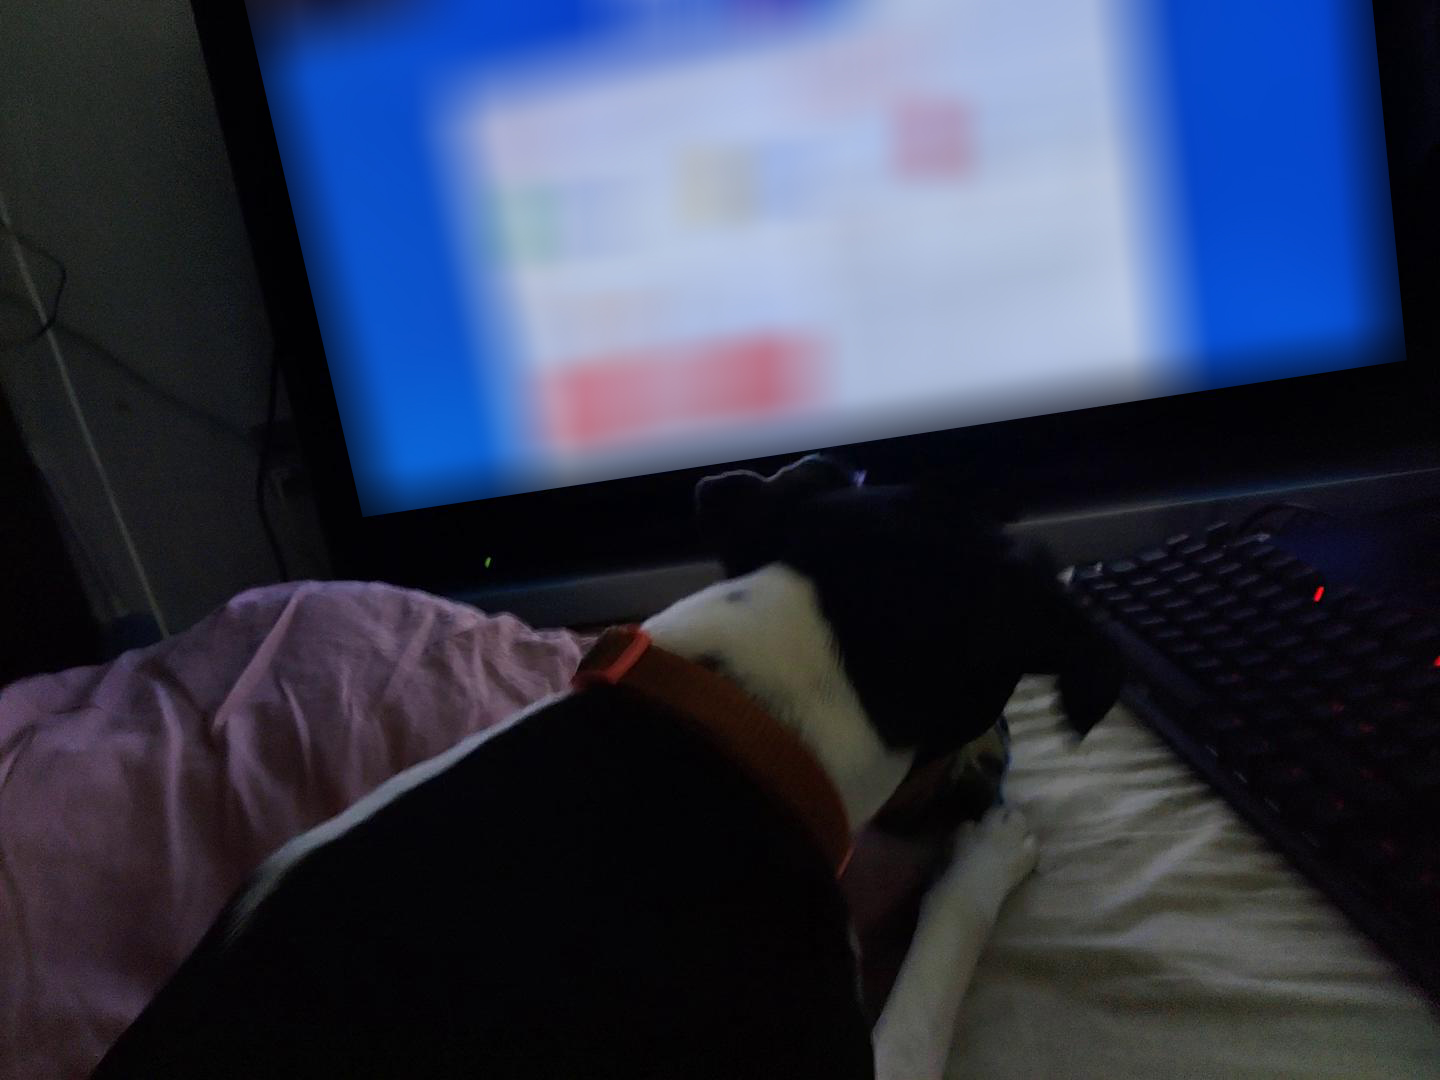Dog: (74, 440, 1145, 1079)
